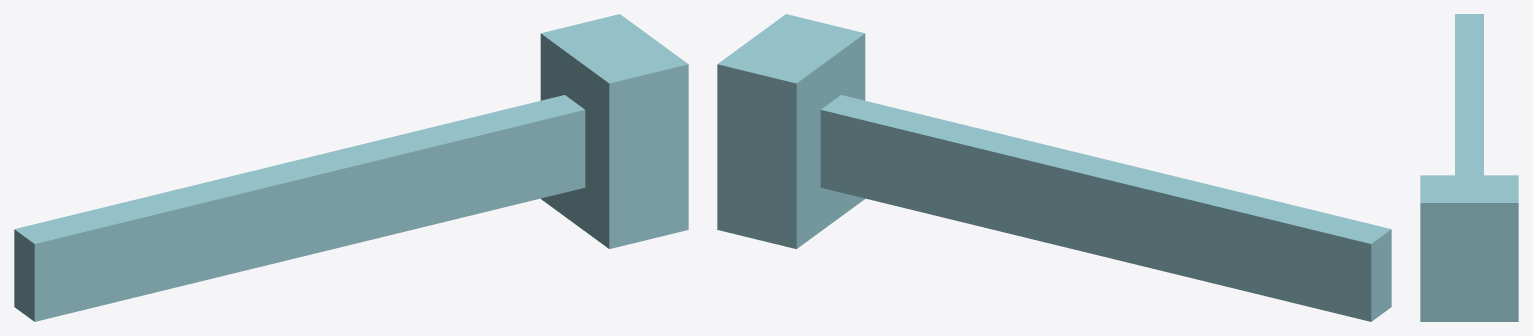
Rendered from cuboid_hammer_v001.obj.
The picture shows the model from 3 angles, left to right: view 1: azimuth 30°, elevation 25°; view 2: azimuth 150°, elevation 25°; view 3: azimuth 270°, elevation 25°; orthographic projection. The views are drawn at different scales.
Bounding box in the file's own units: 0.3022 × 0.076 × 0.0571.
1 material, 1 textured.
